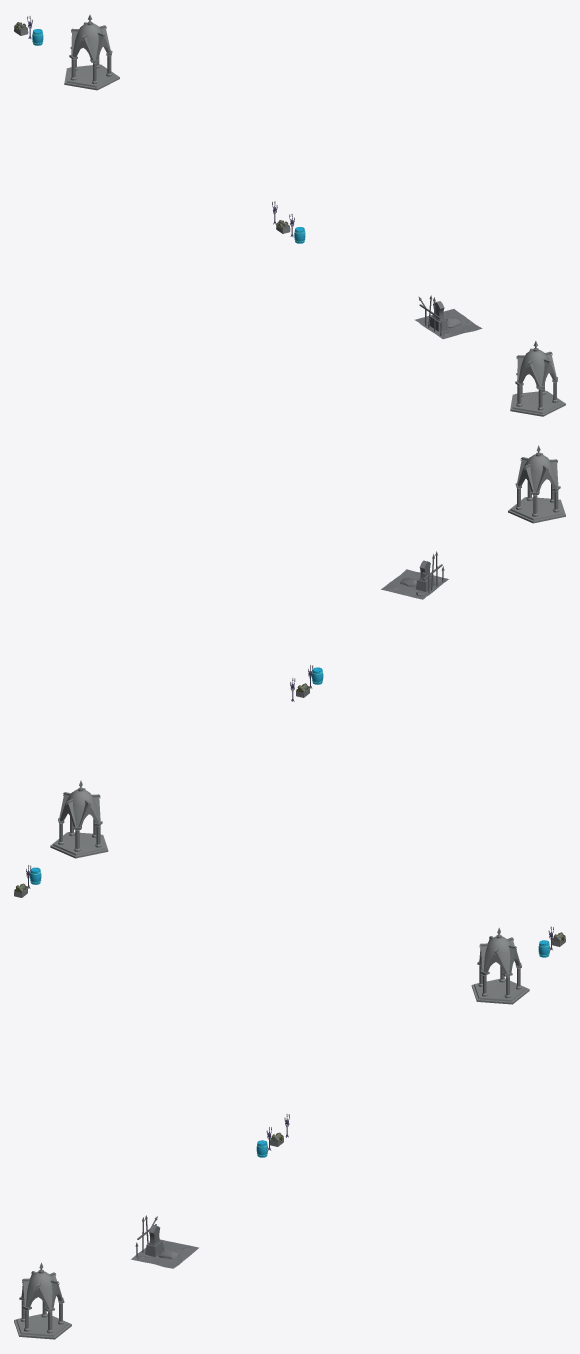
Rendered from desert envi props .fbx.
The picture shows the model from 3 angles, top to bottom: view 1: azimuth 30°, elevation 25°; view 2: azimuth 150°, elevation 25°; view 3: azimuth 330°, elevation 25°; orthographic projection. The views are drawn at different scales.
Visible parts, largest first — view 1: Besedka_01 - Default_0, Besedka_01 - Default_0.001, Nadgrobie_03_Material #26_0; view 2: Besedka_01 - Default_0.001, Besedka_01 - Default_0, Nadgrobie_03_Material #26_0; view 3: Besedka_01 - Default_0.001, Besedka_01 - Default_0, Nadgrobie_03_Material #26_0.
Part boxes in pixels (x1,y1,x2,y2): Besedka_01 - Default_0: (64,14,119,90); Besedka_01 - Default_0.001: (510,341,565,416); Nadgrobie_03_Material #26_0: (414,295,482,339); Besedka_01 - Default_0.001: (508,445,565,523); Besedka_01 - Default_0: (50,780,108,858); Nadgrobie_03_Material #26_0: (381,551,448,599); Besedka_01 - Default_0.001: (14,1262,71,1339); Besedka_01 - Default_0: (471,927,529,1004); Nadgrobie_03_Material #26_0: (131,1215,198,1268).
Size of the model in its own units: 1832 by 1782 by 26191.
Materials: 1 (1 with a texture image).
